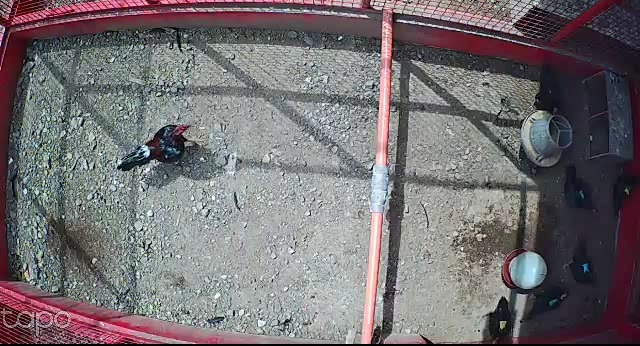Chicken: (557, 164, 599, 217), (563, 240, 601, 290), (476, 295, 513, 346), (520, 287, 571, 323), (610, 167, 640, 226)
Drinker: (501, 248, 549, 291)
Feeder: (519, 110, 574, 170)
Rooster: (117, 118, 196, 175)
Saddle_Color_Blue: (583, 262, 589, 271)
Saddle_Color_Yellow: (499, 318, 506, 329)
